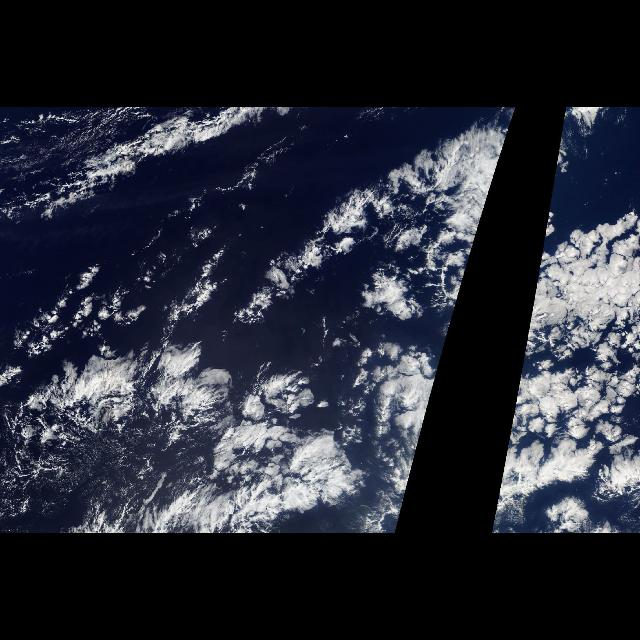Fish: (6, 110, 274, 232)
Flower: (29, 345, 364, 525), (525, 216, 637, 514)
